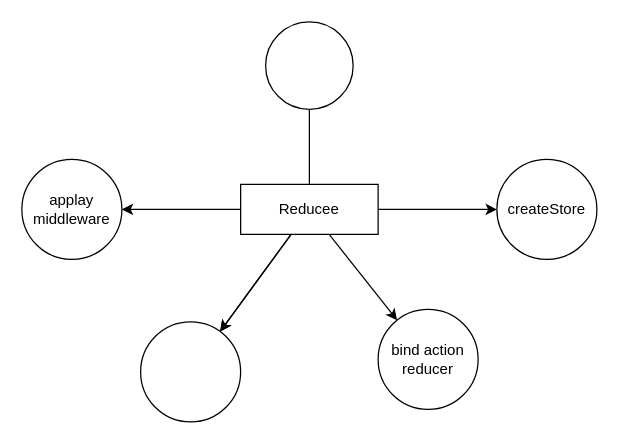
This 619x444 diagram has some shape labels left out. The box of each missing label's shape, as (x1, y1, x2, y2) in pixels:
combined Reducer: (139, 321, 241, 422)
compose: (264, 21, 353, 109)
